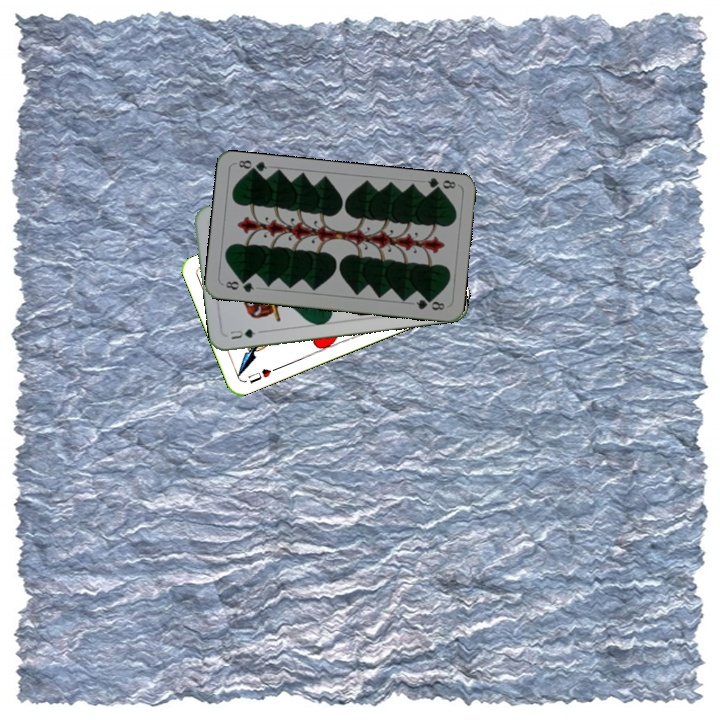G8: (423, 174, 460, 195), (221, 276, 257, 295)
GU: (225, 325, 258, 342)
HU: (244, 363, 280, 386)
